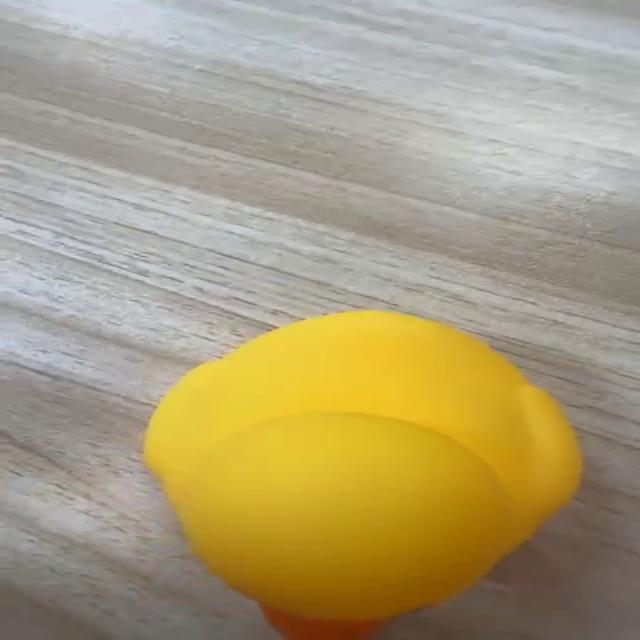yellow_duck: (140, 308, 584, 637)
